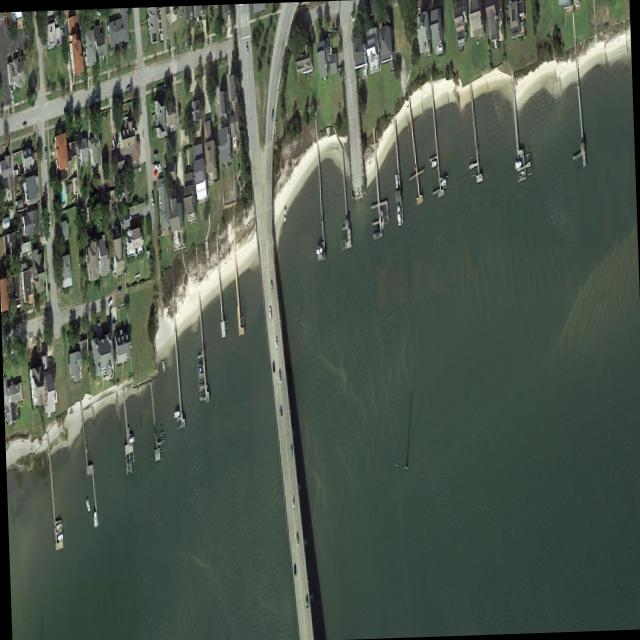ship: (395, 203, 400, 225), (314, 244, 322, 255), (379, 208, 383, 229), (84, 496, 89, 512), (92, 509, 96, 528), (513, 159, 521, 168), (172, 408, 178, 419), (517, 169, 523, 179), (393, 172, 397, 187), (56, 532, 62, 542), (106, 297, 111, 308), (439, 178, 445, 187), (55, 522, 61, 531), (127, 435, 133, 444), (282, 206, 285, 222), (160, 359, 164, 371), (430, 158, 435, 167), (195, 365, 200, 373), (347, 227, 350, 239), (37, 334, 40, 345)
small-vehicle: (149, 192, 153, 205), (294, 533, 298, 545), (5, 15, 8, 30), (59, 27, 64, 36), (43, 147, 46, 161), (304, 595, 307, 608), (271, 360, 274, 373), (268, 306, 271, 319), (270, 108, 273, 120), (291, 496, 294, 508), (278, 404, 281, 416), (277, 371, 280, 383), (274, 337, 277, 349), (269, 280, 272, 292), (2, 15, 5, 27), (155, 161, 160, 168), (93, 95, 98, 102), (292, 563, 295, 574), (244, 41, 247, 52), (21, 121, 25, 129), (125, 83, 129, 91), (153, 168, 157, 176), (416, 0, 419, 10), (289, 445, 292, 455), (95, 320, 100, 326), (152, 151, 157, 157), (117, 287, 121, 294), (111, 204, 113, 216), (113, 203, 115, 215), (152, 162, 155, 168)
